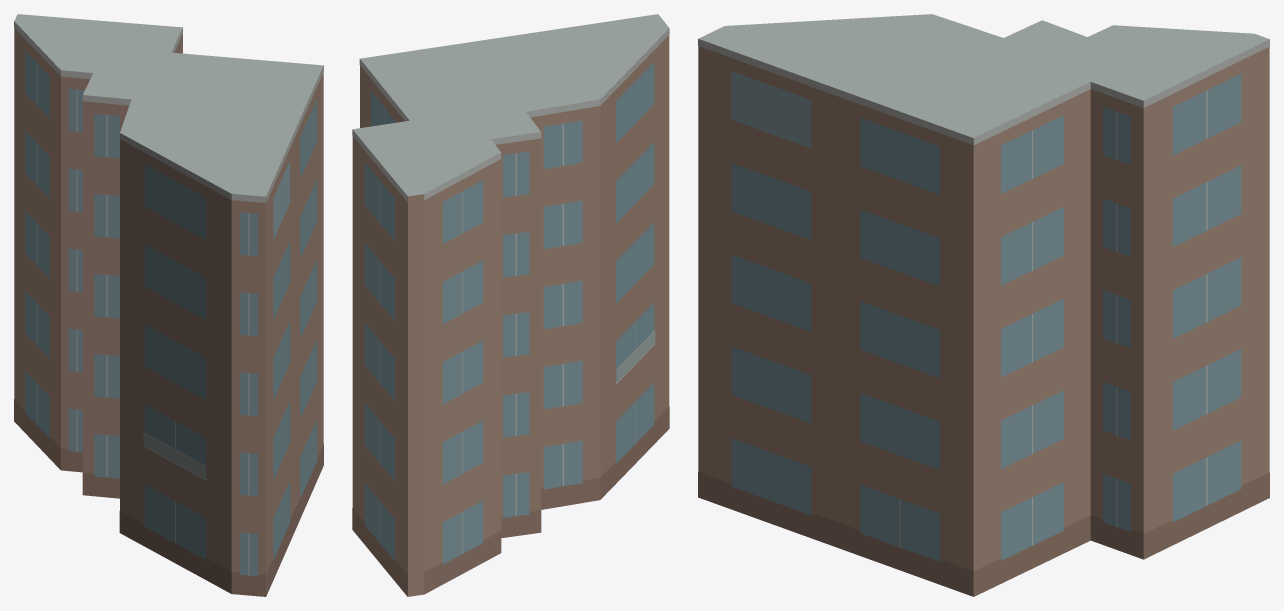
Rendered from survey-upis-32720130.glb.
3 views of the same model, side by side, from view 1: azimuth 30°, elevation 25°; view 2: azimuth 150°, elevation 25°; view 3: azimuth 270°, elevation 25° (orthographic). The views are drawn at different scales.
Visible parts, largest first — view 1: survey-upis-32720130.tmp; view 2: survey-upis-32720130.tmp; view 3: survey-upis-32720130.tmp.
Boxes of the visible parts, bbox=[...] form: survey-upis-32720130.tmp: bbox=[14, 14, 323, 596]; survey-upis-32720130.tmp: bbox=[352, 14, 669, 596]; survey-upis-32720130.tmp: bbox=[698, 14, 1269, 596].
Size of the model in its own units: 9.01 by 15.5 by 17.51.
